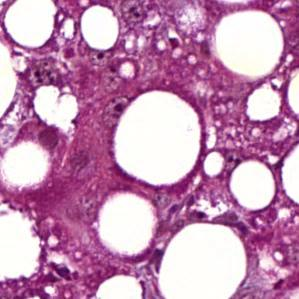steatosis: (110, 90, 208, 187), (210, 3, 287, 78), (230, 153, 279, 210), (80, 7, 119, 49)
